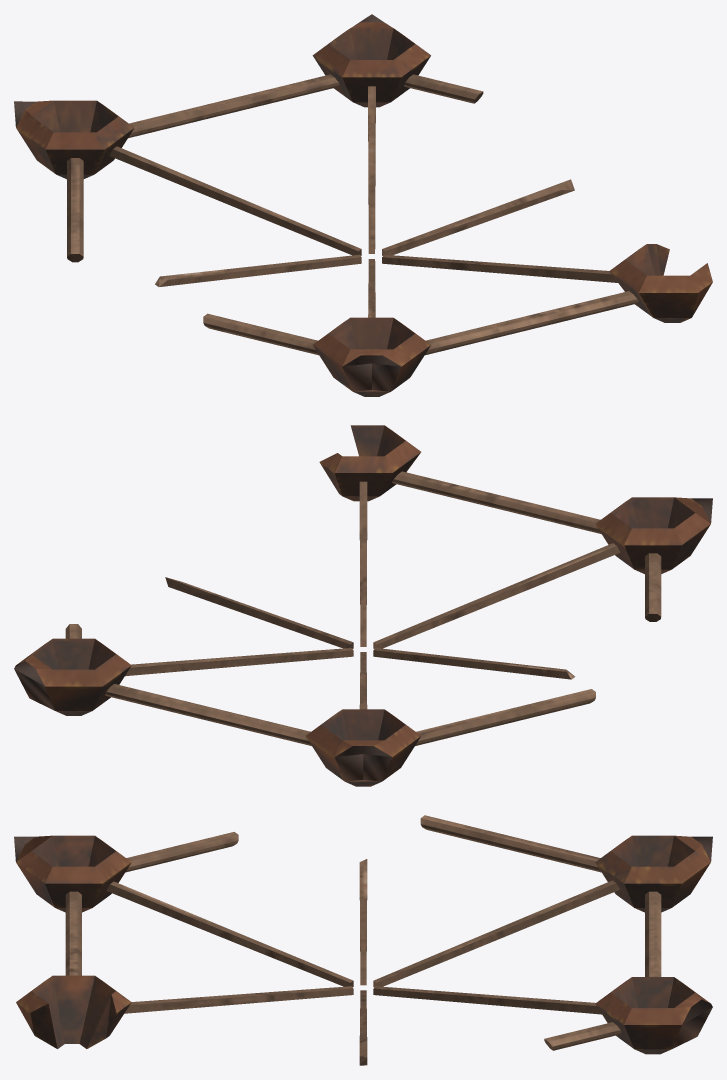
Rendered from LowerHexagon.fbx.
3 views of the same model, one above another, from view 1: azimuth 30°, elevation 25°; view 2: azimuth 150°, elevation 25°; view 3: azimuth 270°, elevation 25° (orthographic). The views are drawn at different scales.
Visible parts, largest first — view 1: Cylinder.004; view 2: Cylinder.004; view 3: Cylinder.004.
Part boxes in pixels (x1,y1,x2,y2): Cylinder.004: [14, 14, 712, 396]; Cylinder.004: [14, 425, 712, 786]; Cylinder.004: [14, 815, 712, 1065].
Size of the model in its own units: 166 by 23.9 by 214.
